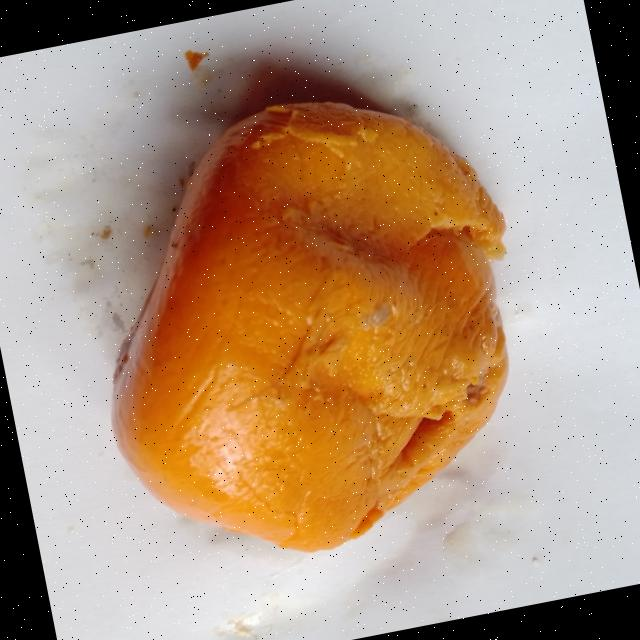Rotten: (62, 67, 559, 588)
